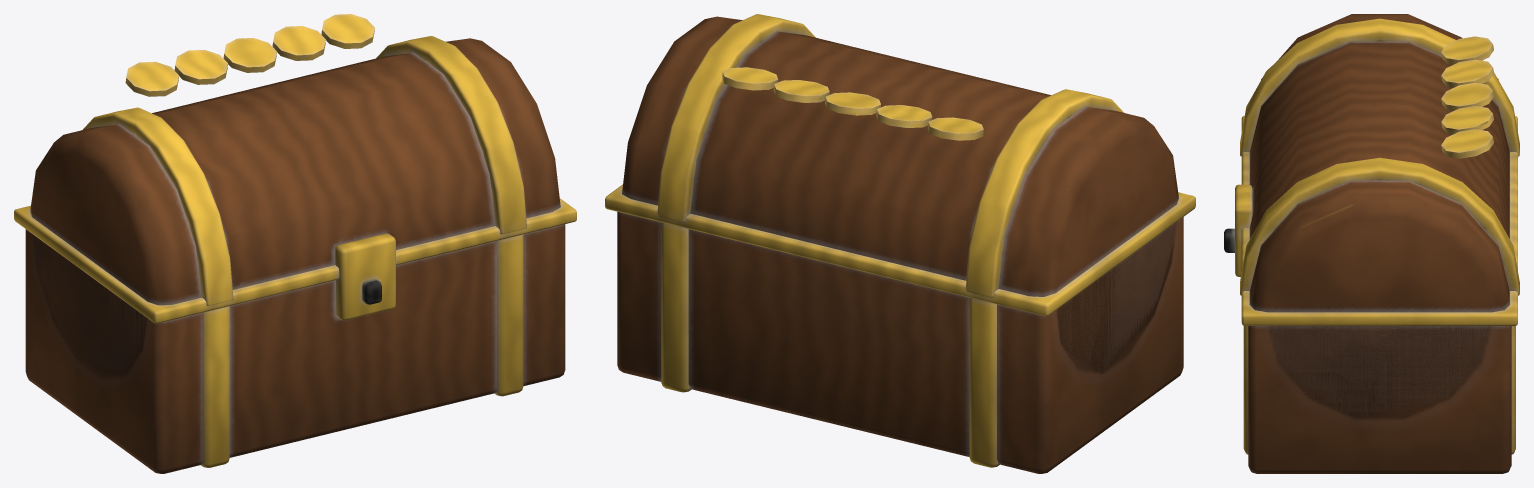
File: mu_obstacle_treasure_chest.glb
3 views of the same model, side by side, from view 1: azimuth 30°, elevation 25°; view 2: azimuth 150°, elevation 25°; view 3: azimuth 270°, elevation 25° (orthographic). The views are drawn at different scales.
Parts seen in each view (by area): view 1: mu_obstacle_treasure_chest; view 2: mu_obstacle_treasure_chest; view 3: mu_obstacle_treasure_chest.
Part boxes in pixels (x1,y1,x2,y2): mu_obstacle_treasure_chest: (14, 14, 576, 473); mu_obstacle_treasure_chest: (605, 14, 1195, 473); mu_obstacle_treasure_chest: (1224, 14, 1519, 473).
Bounding box in the file's own units: 2.16 × 1.47 × 1.35.
Materials: 3 (3 with a texture image).
